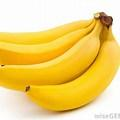banana: (0, 9, 120, 112)
